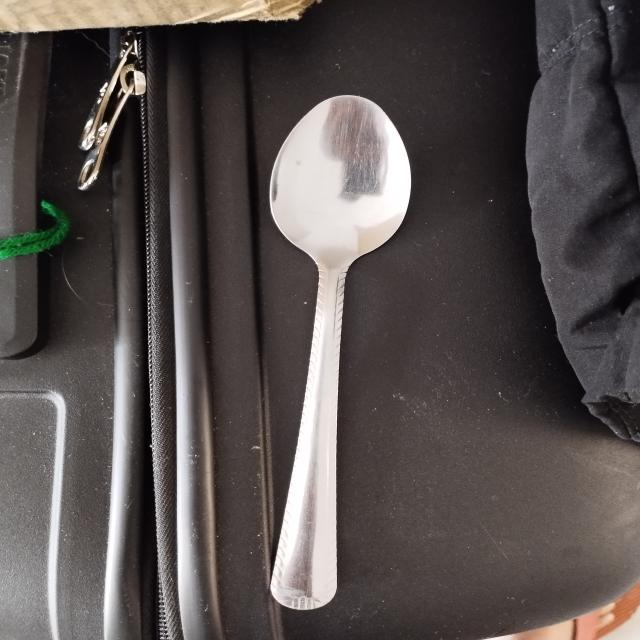Spoon: (259, 74, 418, 640)
